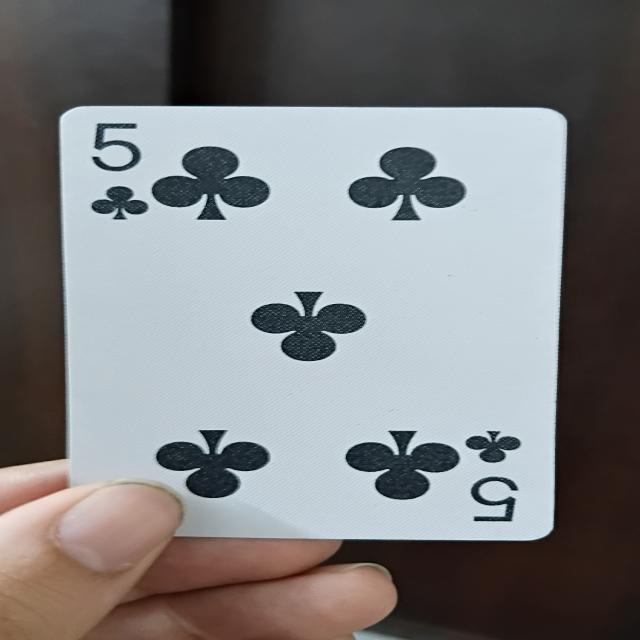5C: (53, 102, 562, 548)
